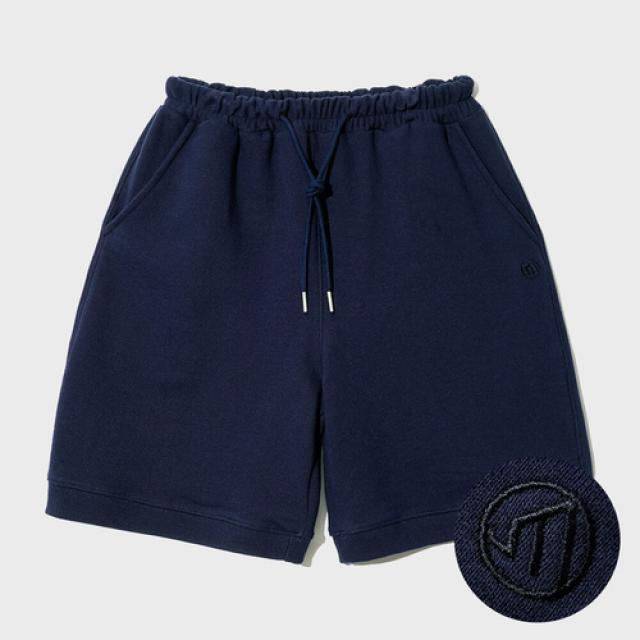dress: (61, 72, 584, 559)
